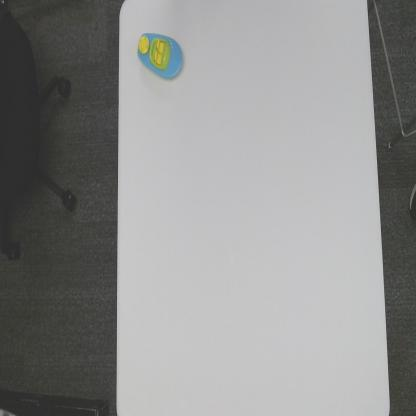Boat: (134, 24, 185, 85)
